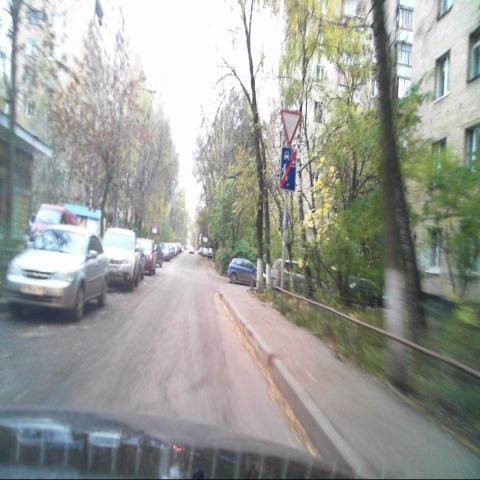5_22: (279, 147, 296, 191)
